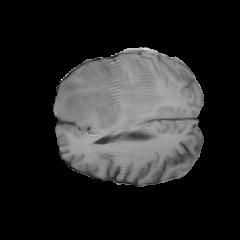glioma: (57, 56, 169, 130)
